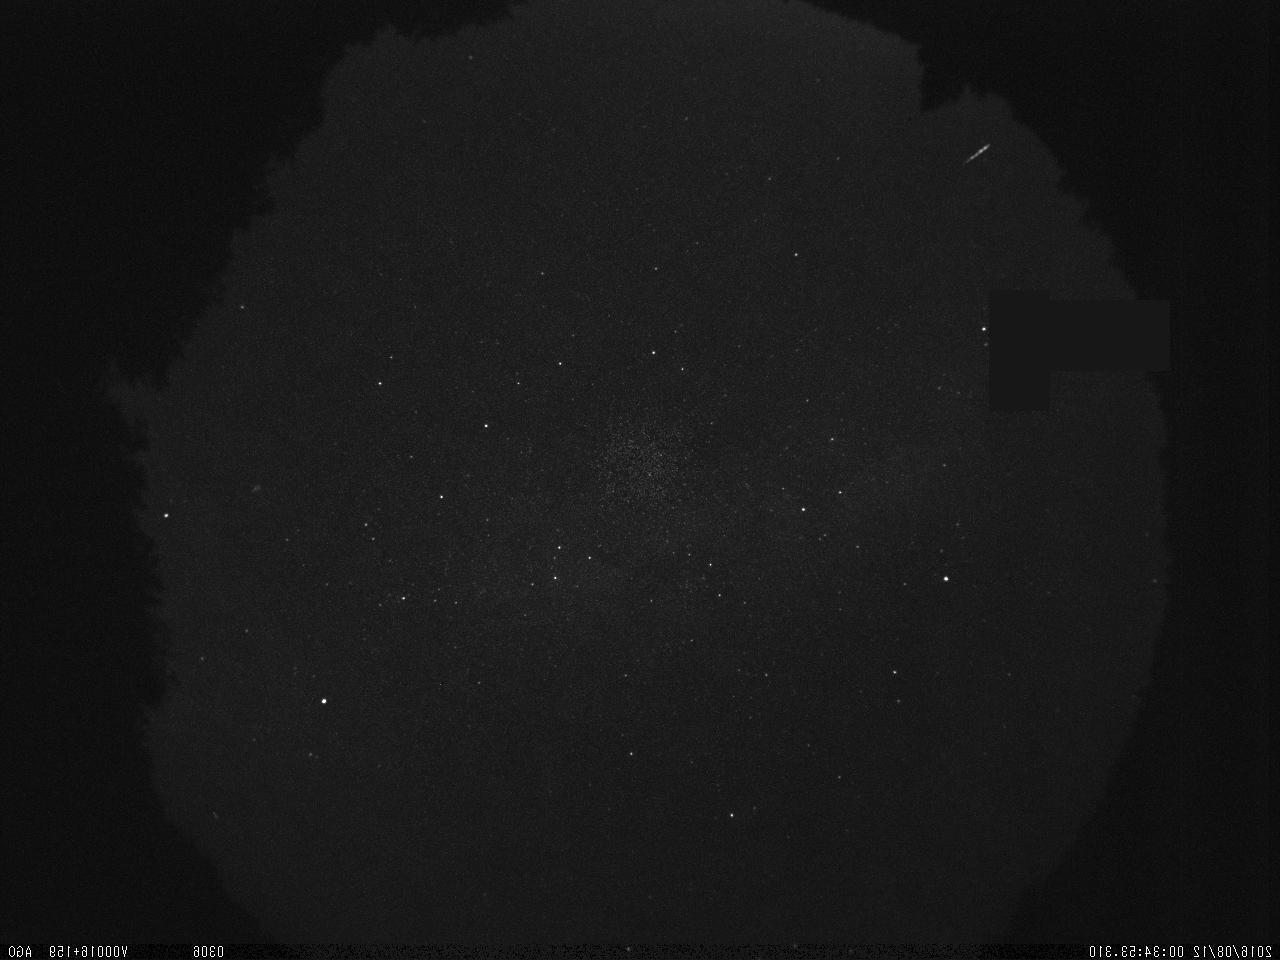meteor: (941, 136, 1003, 182)
